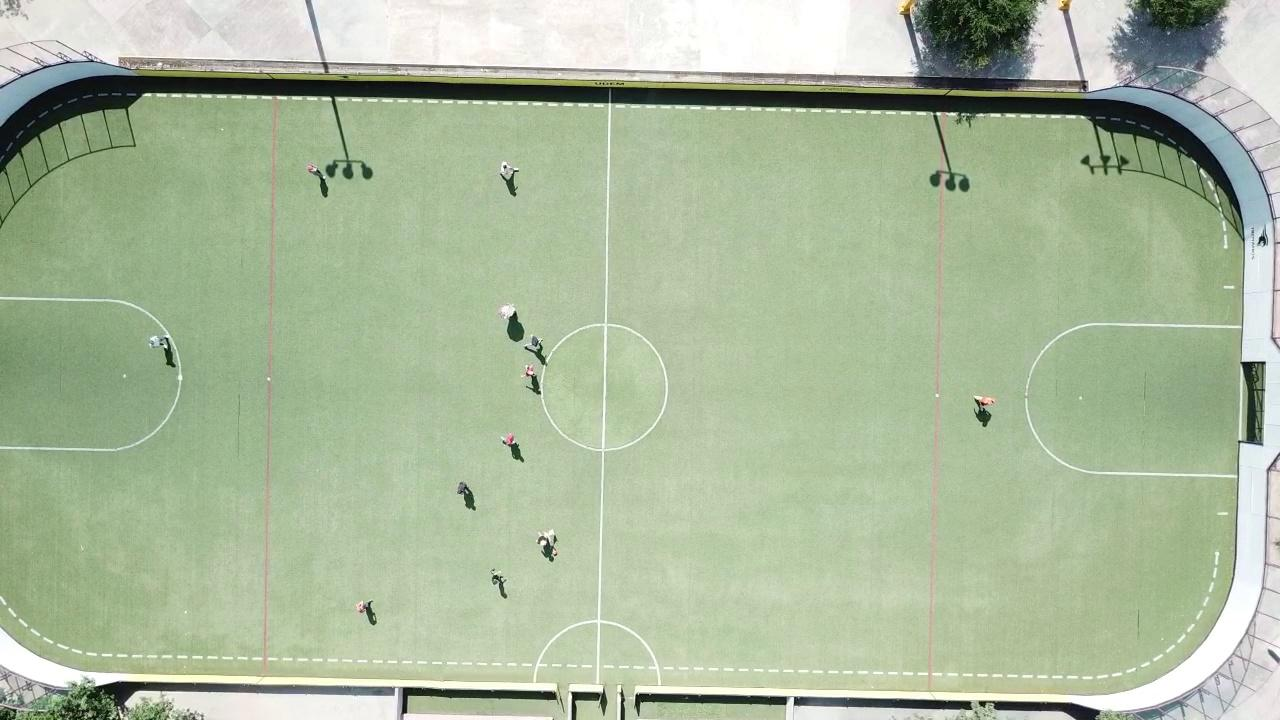ball: (553, 550, 558, 556)
player: (523, 336, 543, 356), (534, 529, 556, 547), (500, 161, 518, 179), (974, 395, 996, 409), (354, 599, 372, 616), (499, 304, 516, 321), (490, 570, 507, 585), (149, 335, 167, 348), (456, 481, 470, 497), (307, 164, 320, 176), (524, 366, 536, 379), (503, 432, 514, 443)
